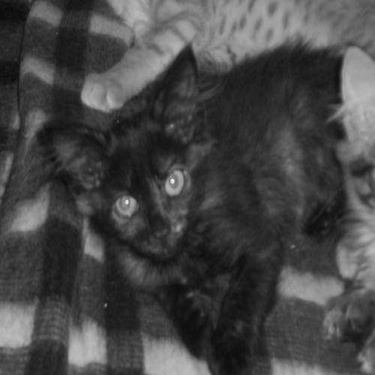cat: (38, 40, 344, 371), (85, 1, 370, 116), (321, 44, 372, 373)
